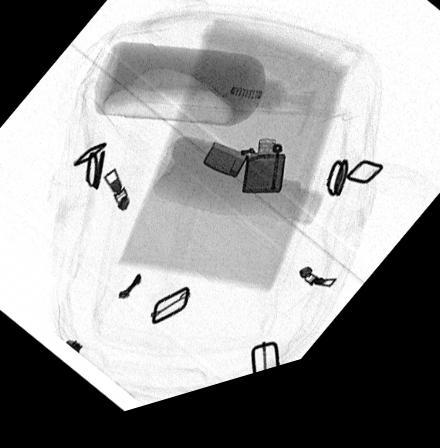Lighter: (202, 151, 286, 208)
